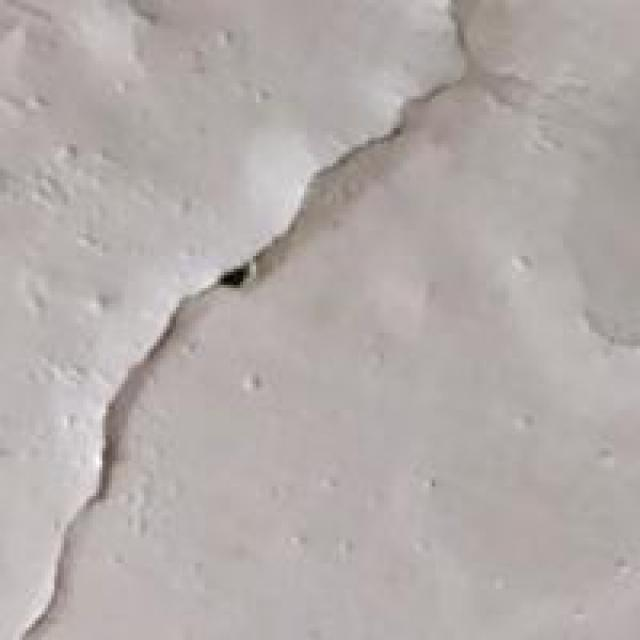Crack: (29, 67, 490, 637)
